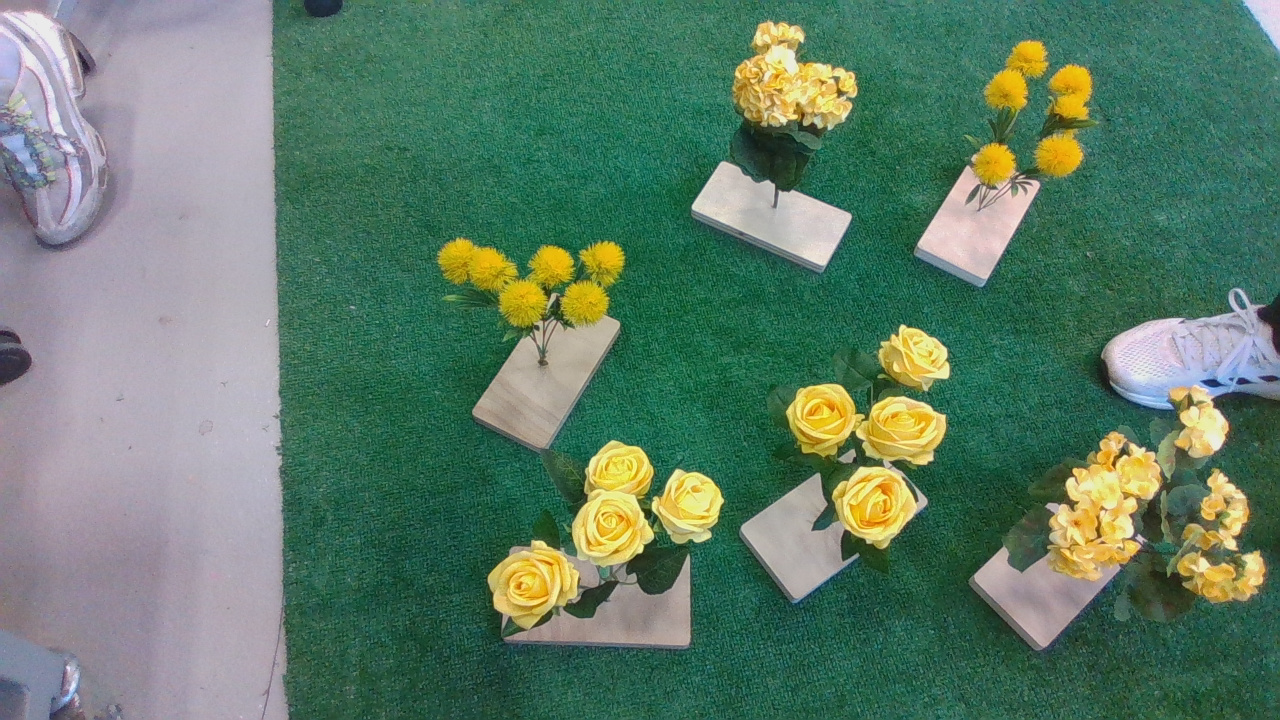dandelion: (417, 237, 649, 357), (961, 39, 1106, 226)
geranium: (1004, 387, 1275, 620), (720, 18, 872, 210)
rose: (760, 320, 971, 586), (478, 447, 733, 646)
